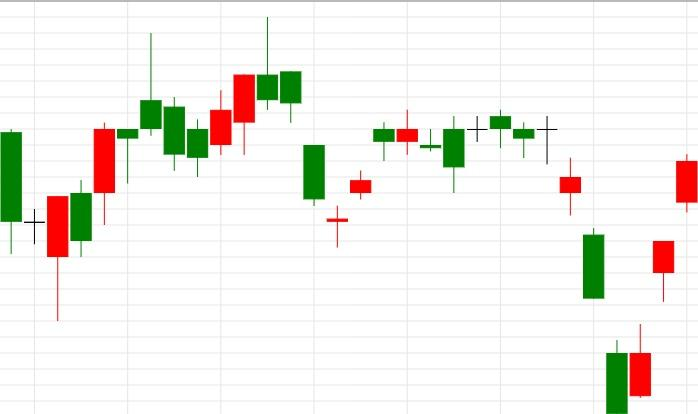shooting_star_fall: (47, 33, 163, 321), (186, 17, 279, 177)
three_white_soldiers_rise: (489, 110, 698, 414)
